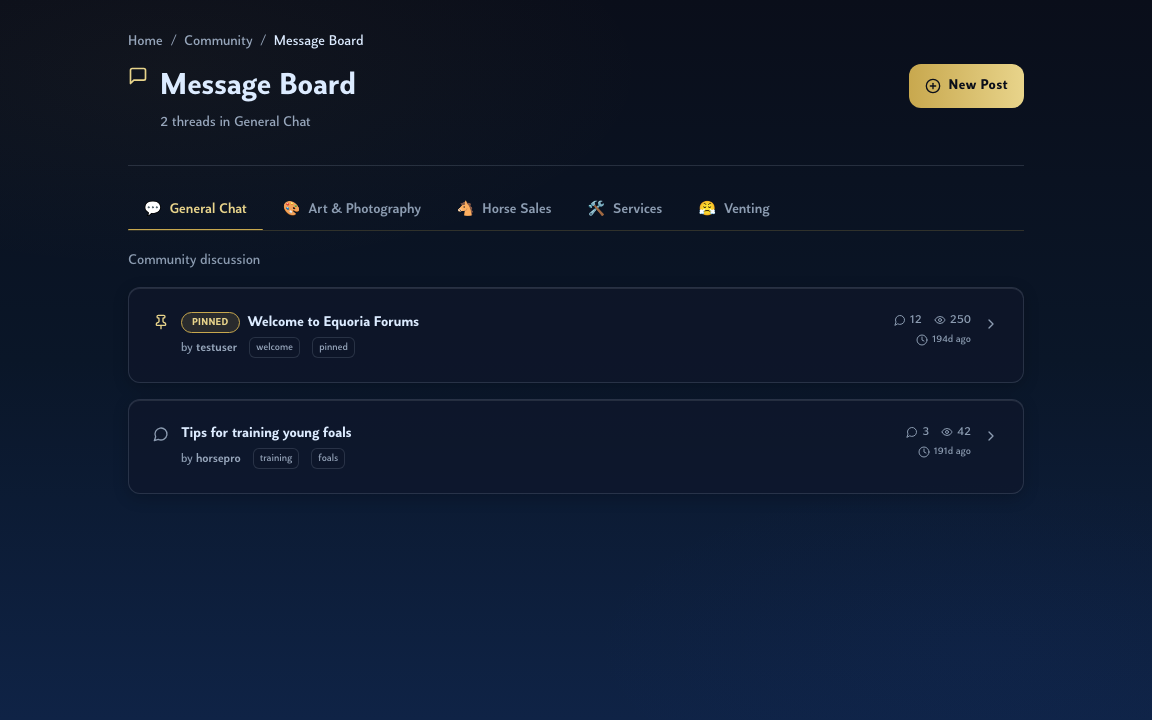
Test case: MessageBoardPage — new thread (Equoria-pqor7) › a successful post closes the dialog with no error
The width and height of the screenshot is (1152, 720).
Click the button with test id "new-post-button": x=966, y=86 [908,64,1024,108]
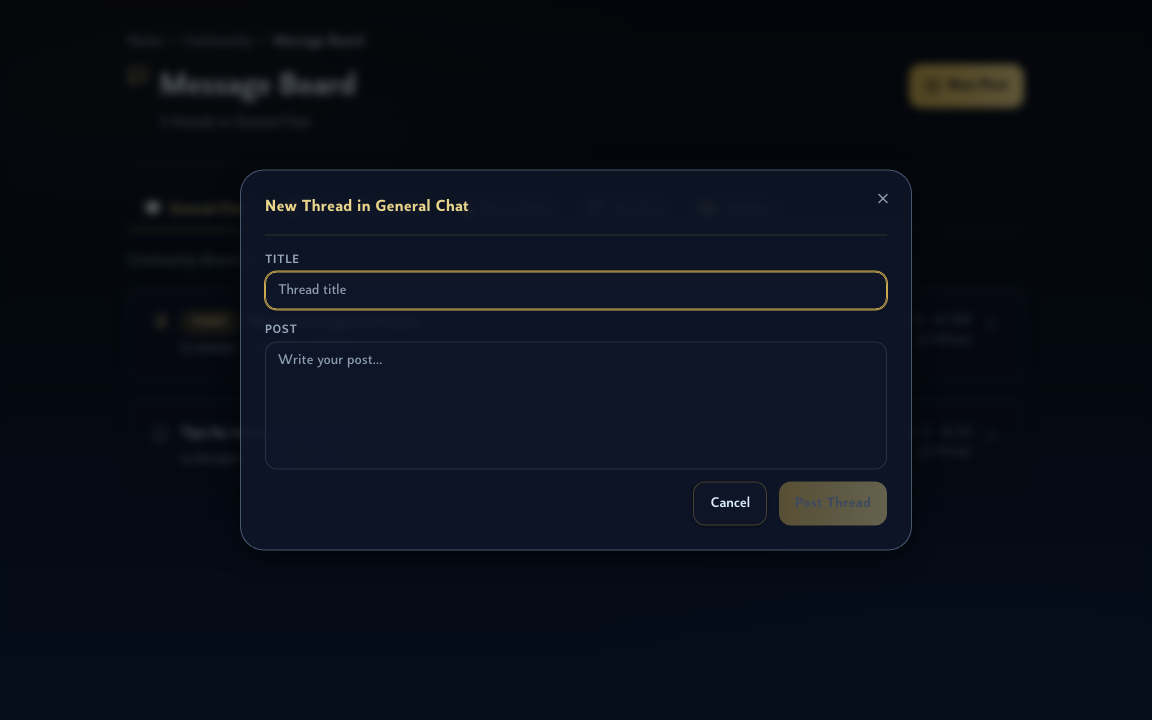
In the field with test id "new-thread-title": x=576, y=290 [265,272,887,310], type "My title"
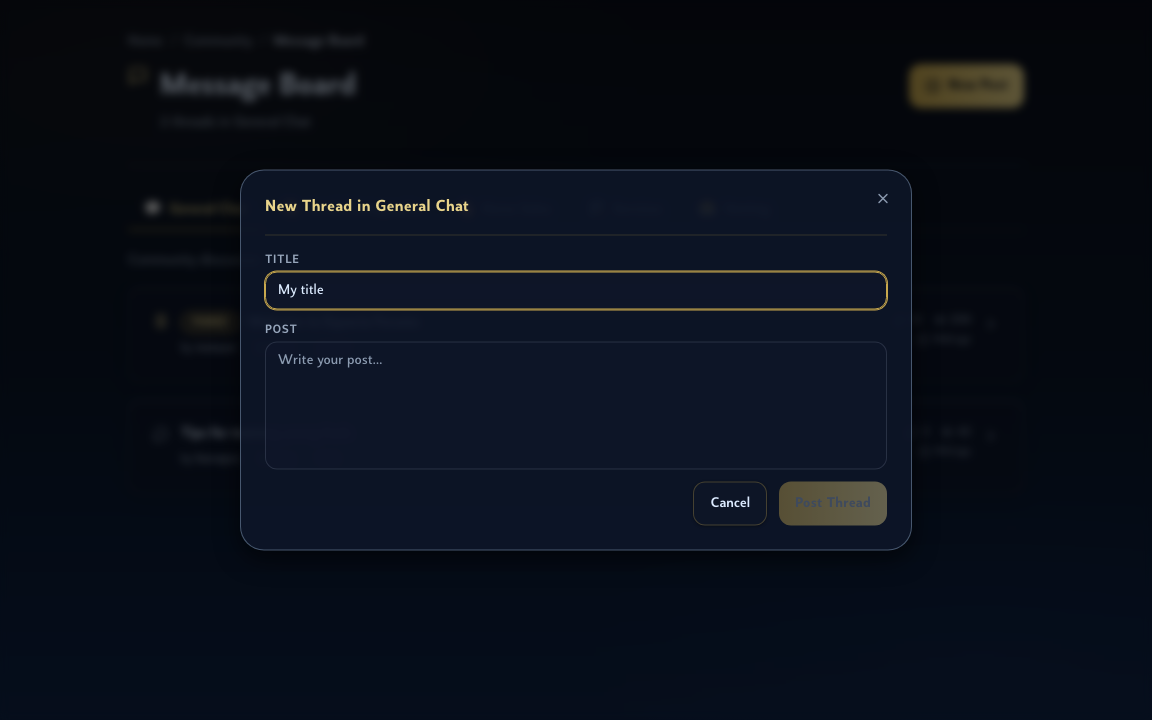
In the text box with test id "new-thread-content": x=576, y=406 [265,342,887,470], type "My long post"
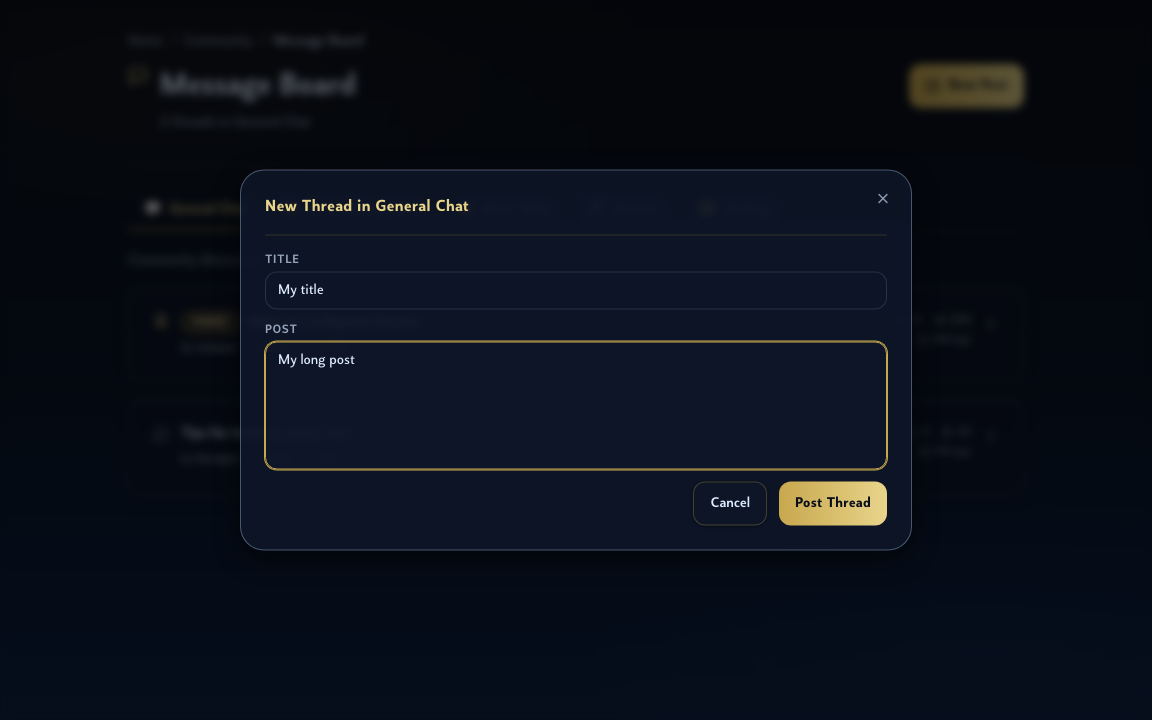
Click the button with test id "submit-new-thread": x=833, y=504 [779,482,887,526]
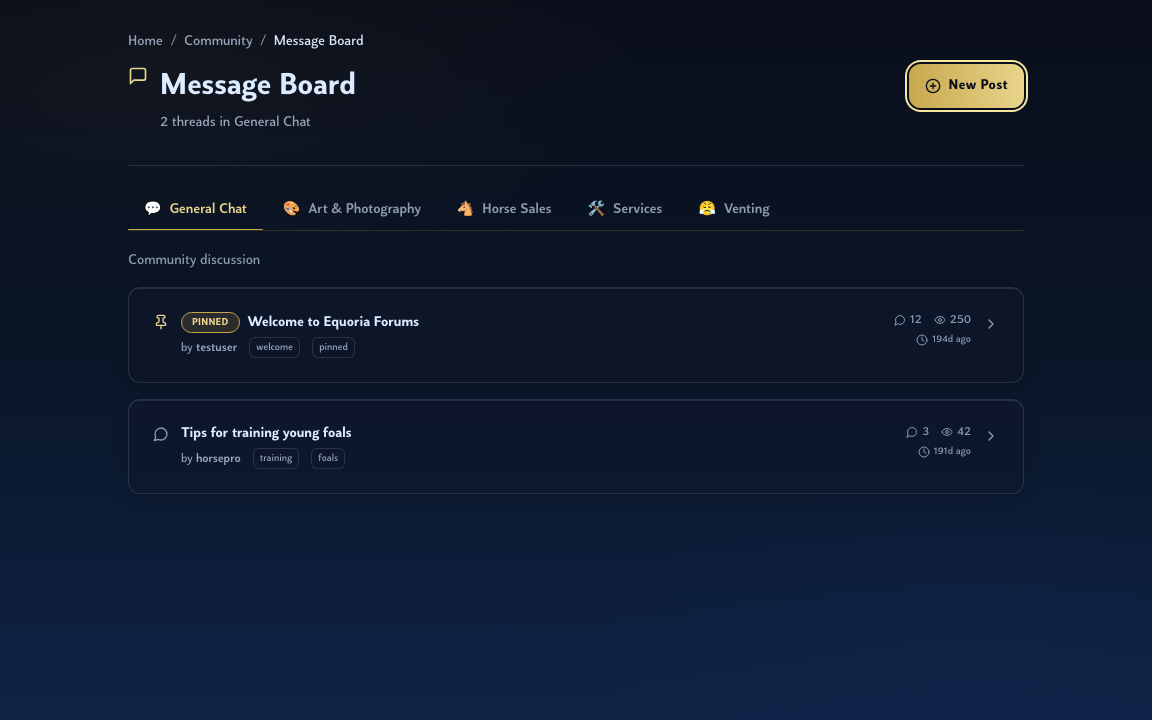
Now the field with test id "new-thread-title" is gone
